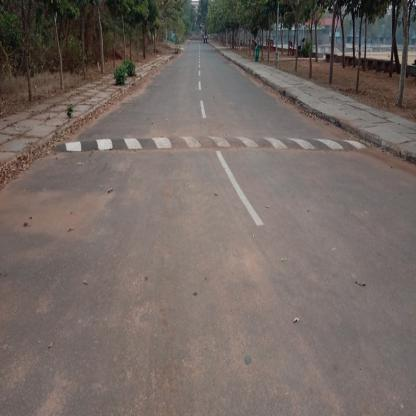speed-bumps: (59, 127, 370, 159)
